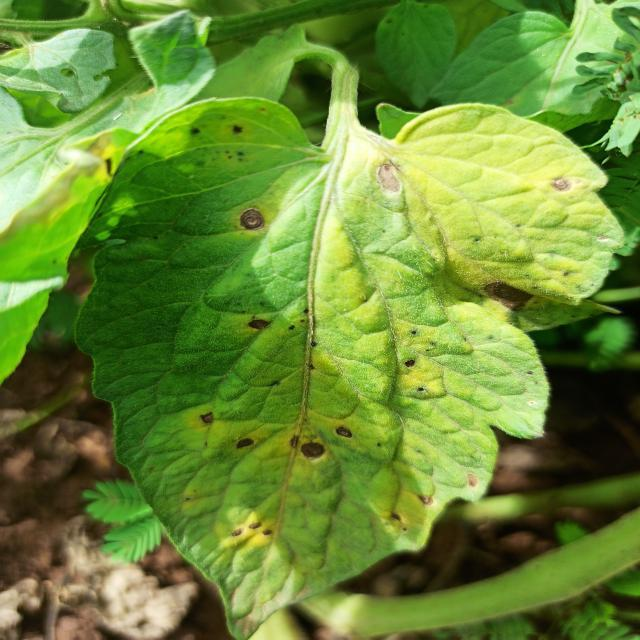Tomato mosaic virus leaf: (81, 59, 622, 632)
